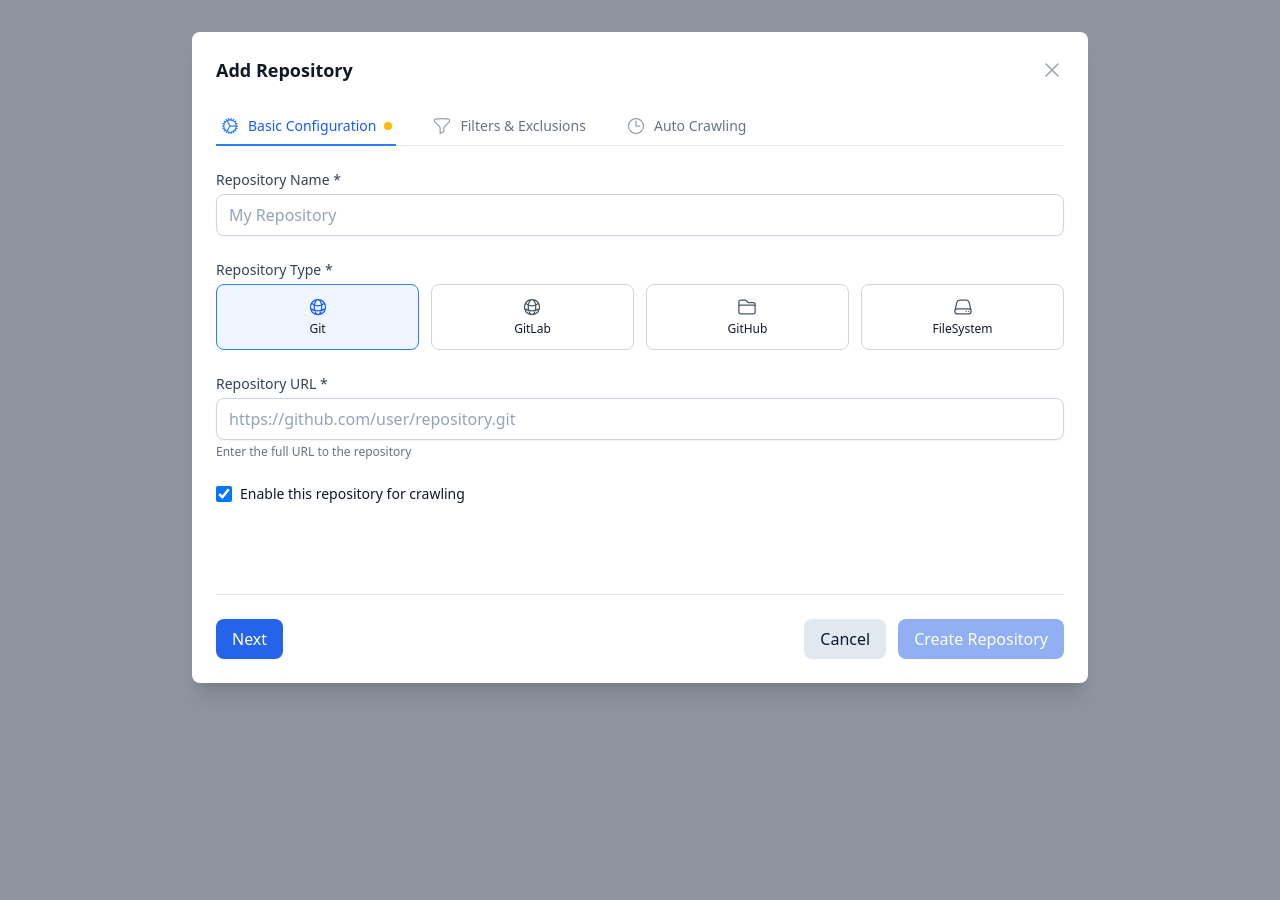
Test case: RepositoryForm - Filtering Fields › Field Rendering › should have correct labels for all new fields
Click the button "Filters & Exclusions".
click(509, 127)  # box [428,108,590,146]
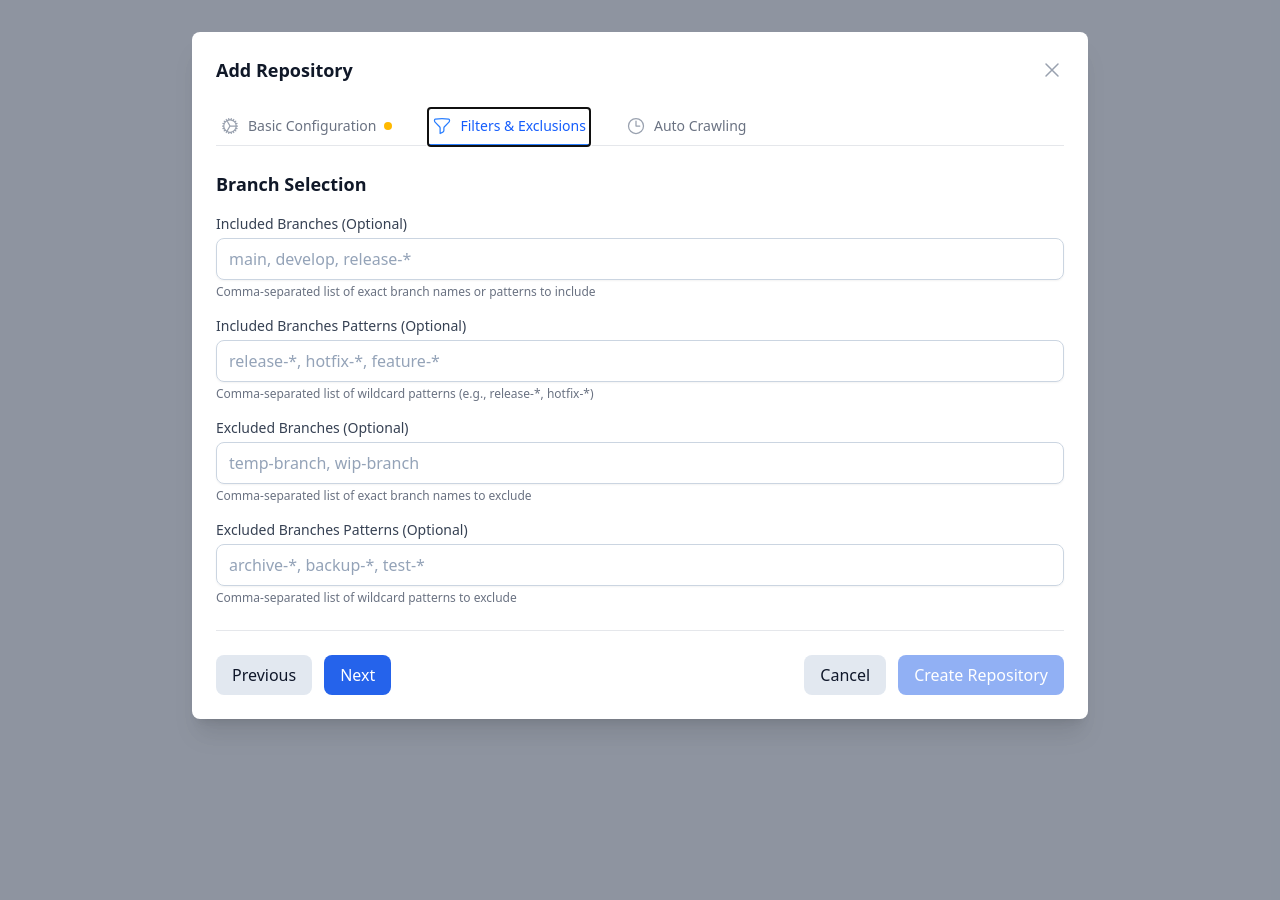
Expected: the text "Included Branches (Optional)" is shown, [216,214,407,233]
Expected: the text "Included Branches Patterns (Optional)" is shown, [216,316,466,335]
Expected: the text "Excluded Branches (Optional)" is shown, [216,418,409,437]
